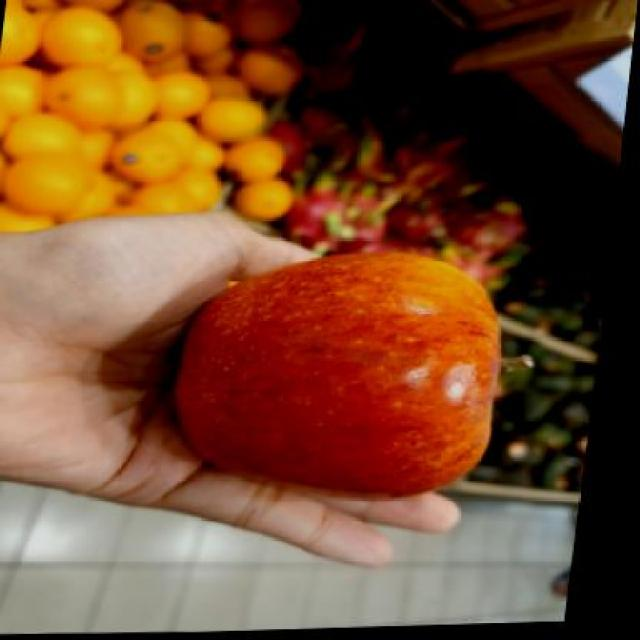Fresh Apple: (171, 253, 521, 494)
